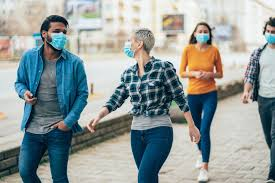with-mask: (117, 25, 155, 62), (41, 15, 72, 55), (187, 19, 217, 49), (257, 17, 275, 46)
